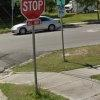Car: (6, 13, 65, 35)
